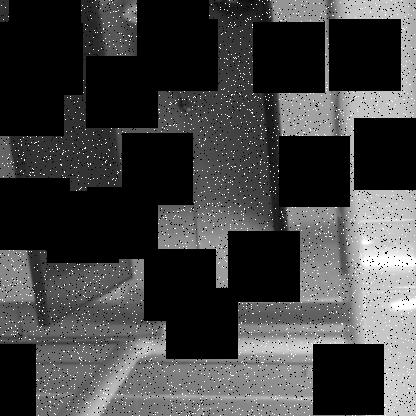Porte: (0, 0, 294, 330)
